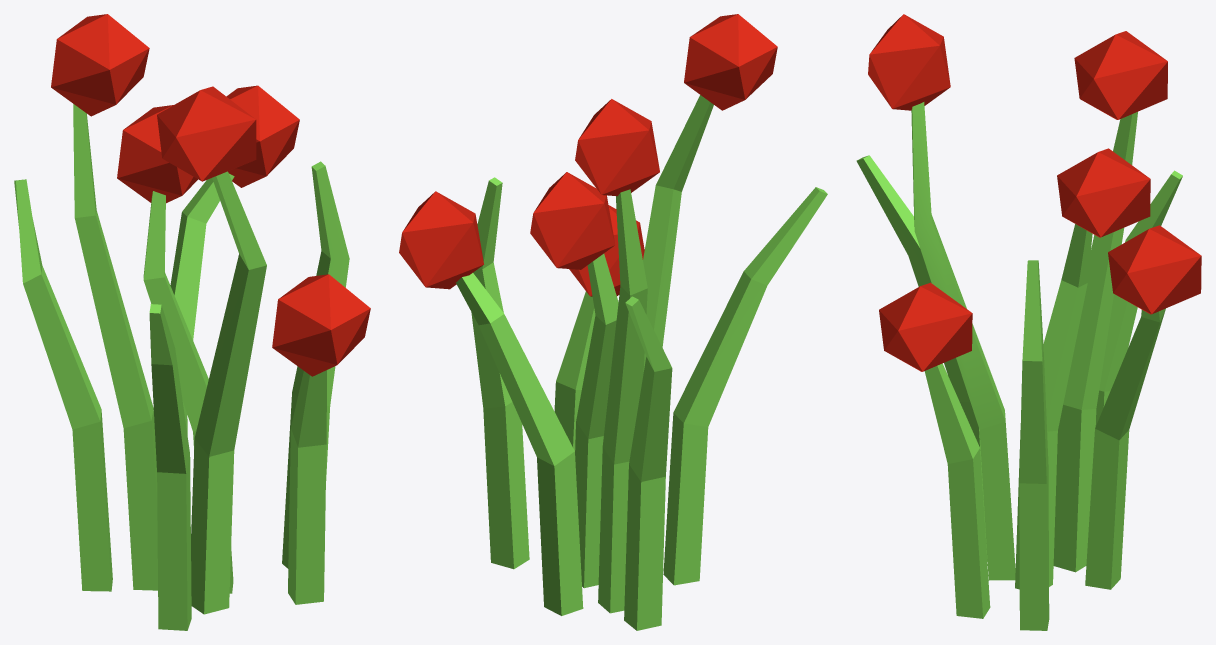
Rendered from FlowerRed.fbx.
The picture shows the model from 3 angles, left to right: view 1: azimuth 30°, elevation 25°; view 2: azimuth 150°, elevation 25°; view 3: azimuth 270°, elevation 25°; orthographic projection. The views are drawn at different scales.
Parts seen in each view (by area): view 1: Flower3; view 2: Flower3; view 3: Flower3.
Boxes of the visible parts, bbox=[...] form: Flower3: bbox=[14, 14, 370, 630]; Flower3: bbox=[399, 14, 827, 630]; Flower3: bbox=[856, 14, 1201, 630].
Size of the model in its own units: 0.254 by 0.462 by 0.2714.
